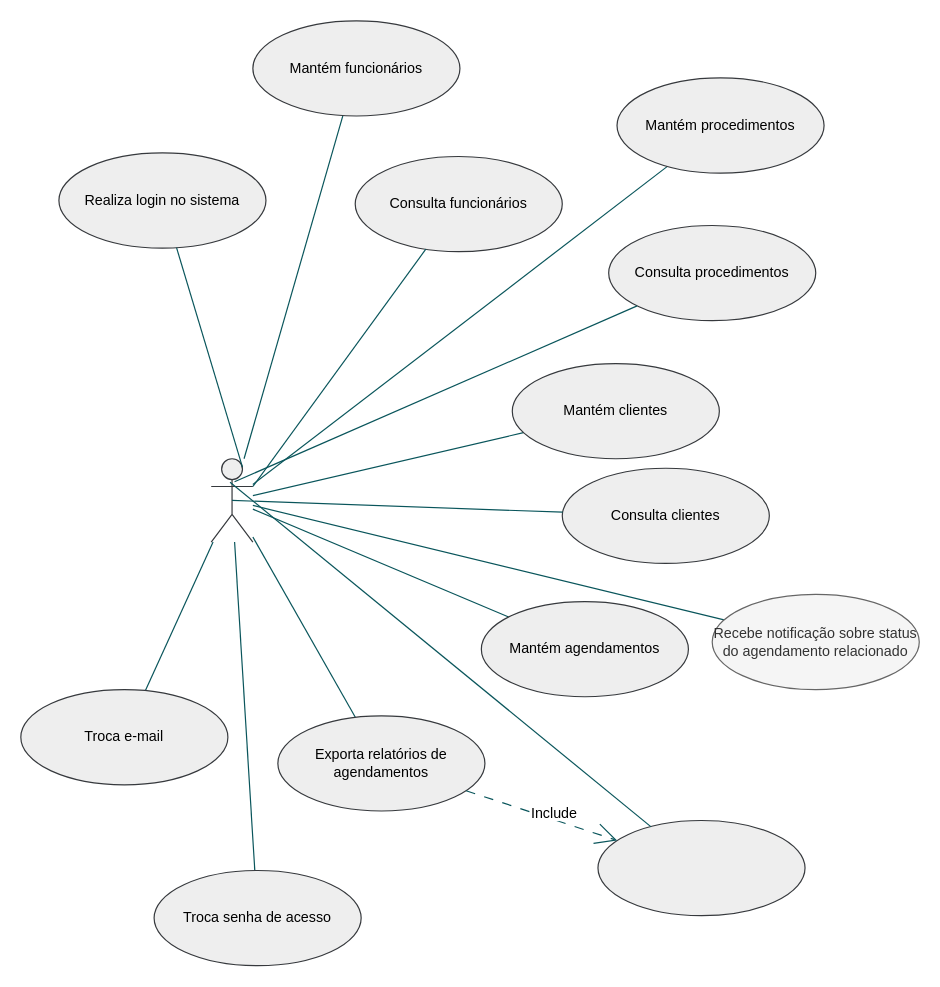
Image size: 940x987. Some labels were removed from this diagram. Each missing label, with the centre of its shape:
"Administrador" goes at point (231, 500).
"Consulta agendamentos" goes at point (701, 867).
